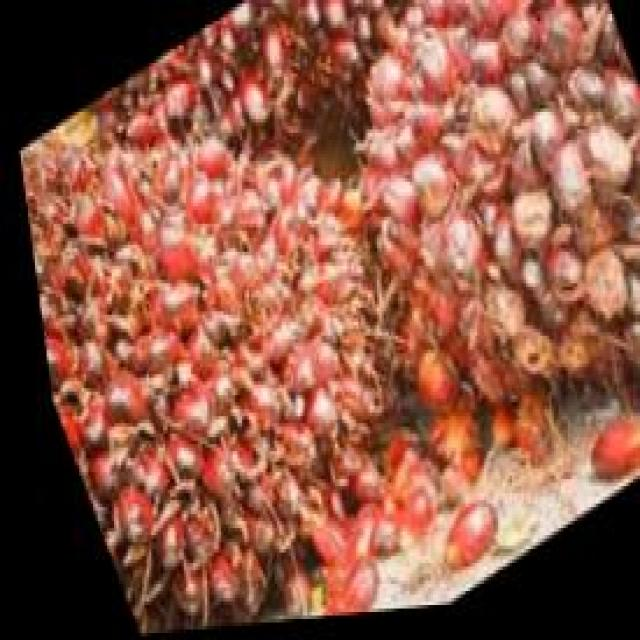Ripefruit: (2, 0, 458, 640), (284, 0, 640, 542)
